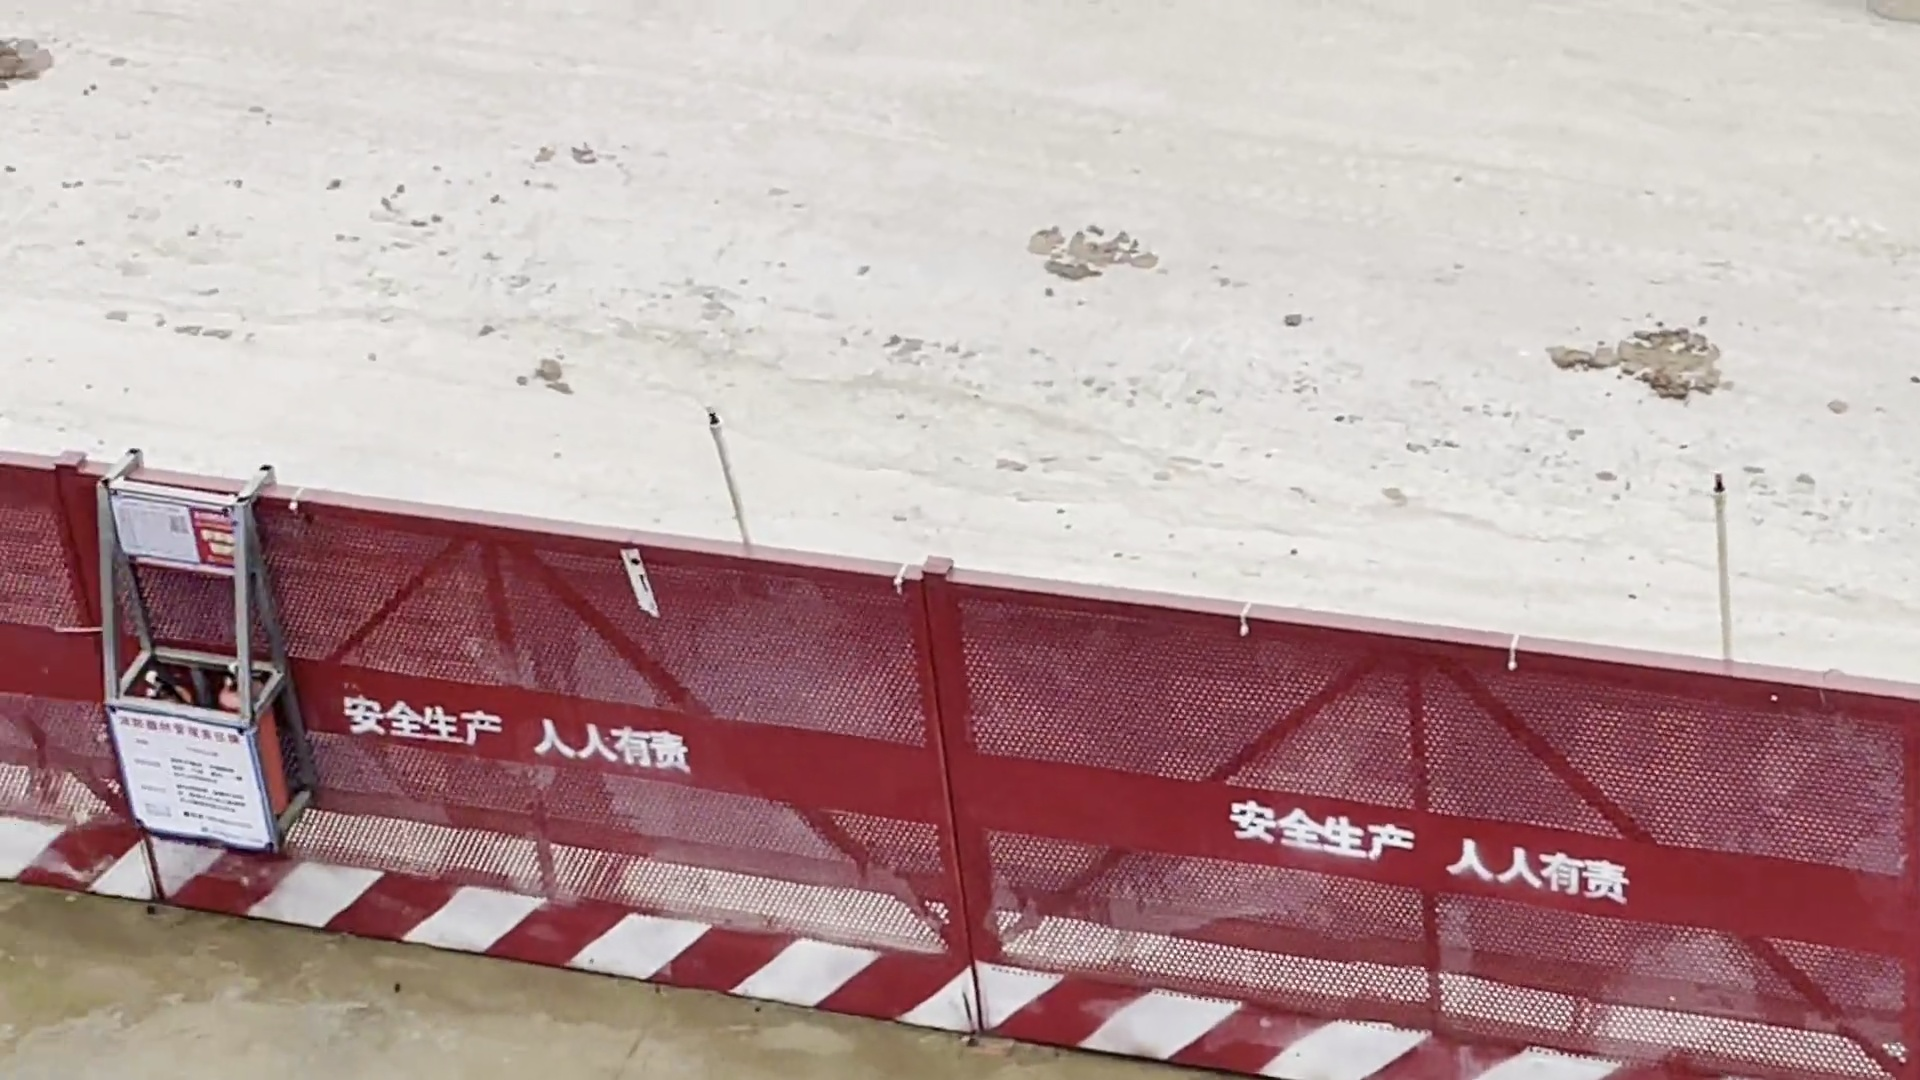fence: (1, 480, 1884, 1069)
